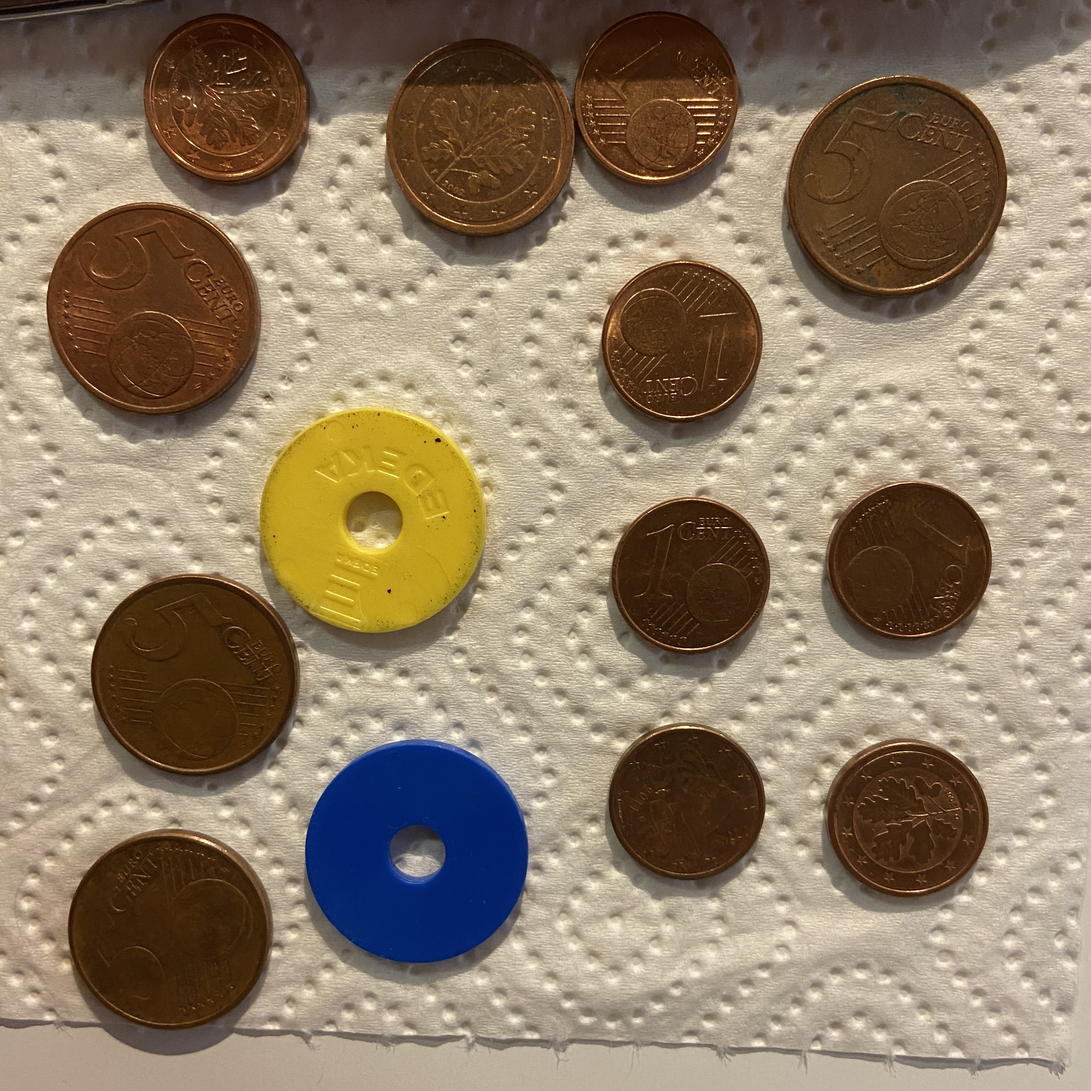1 cent: (575, 12, 738, 184), (144, 14, 308, 183), (827, 482, 992, 639), (822, 739, 987, 896), (606, 724, 771, 881), (602, 261, 762, 421), (611, 498, 770, 653)
2 cent: (827, 482, 992, 639)
5 cent: (45, 196, 264, 416), (788, 76, 1007, 295), (91, 574, 299, 775), (68, 830, 272, 1028), (386, 39, 574, 235)
